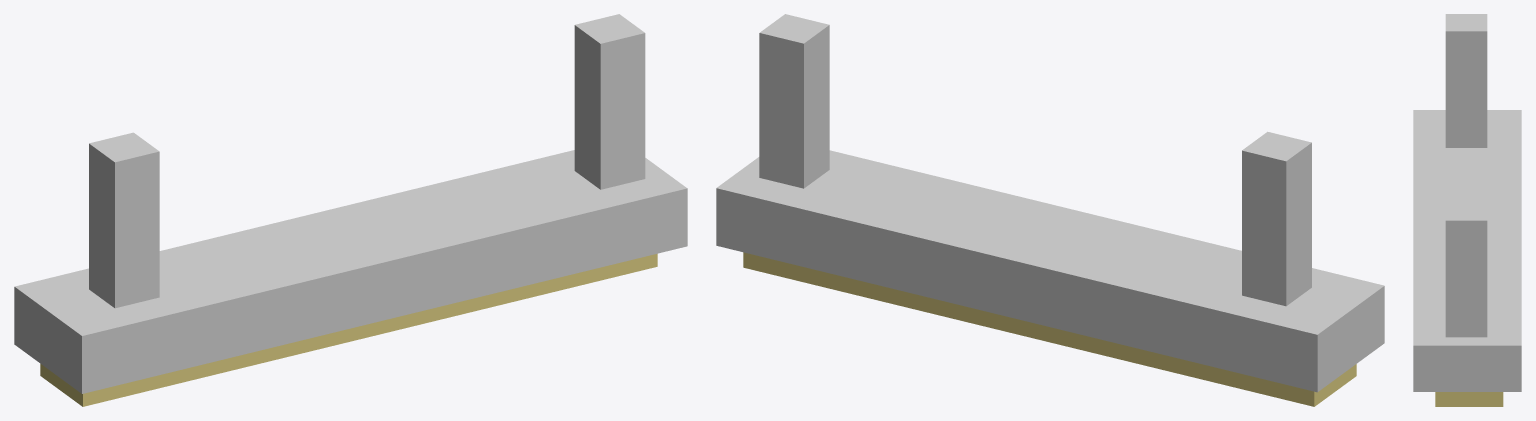
Rendered from deckenleuchte.fbx.
3 views of the same model, side by side, from view 1: azimuth 30°, elevation 25°; view 2: azimuth 150°, elevation 25°; view 3: azimuth 270°, elevation 25° (orthographic). The views are drawn at different scales.
Parts seen in each view (by area): view 1: fassung, halter, halter.001, licht; view 2: fassung, halter, halter.001, licht; view 3: fassung, halter, halter.001, licht.
Boxes of the visible parts, x1,y1,x2,y2 form: fassung: (14,150,687,393); halter: (574,14,645,189); halter.001: (89,132,159,308); licht: (40,253,657,406); fassung: (716,150,1384,392); halter: (759,14,829,188); halter.001: (1242,131,1311,306); licht: (743,252,1356,406); fassung: (1413,110,1521,391); halter: (1445,203,1487,337); halter.001: (1445,14,1487,147); licht: (1435,392,1503,406).
Size of the model in its own units: 317 by 115 by 61.27.
